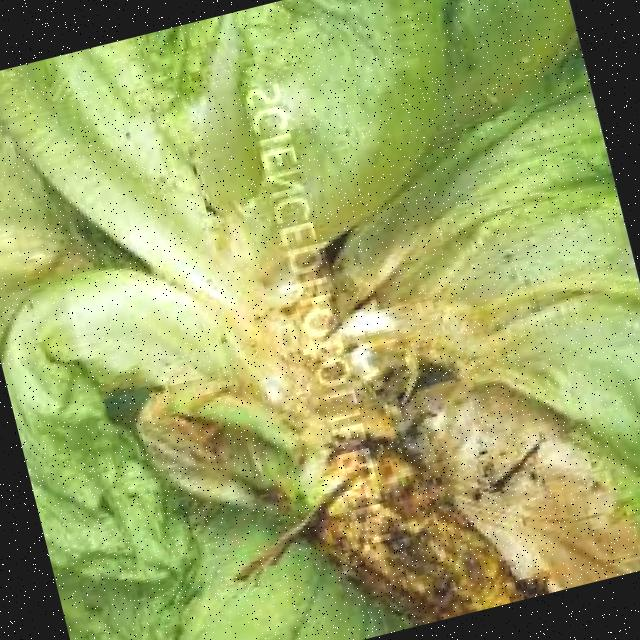Septoria_Blight_on_lettuce: (15, 91, 640, 640)
